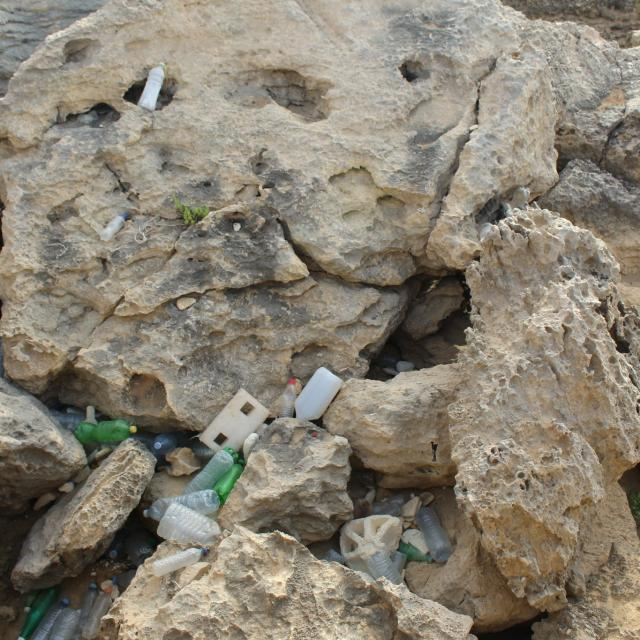Bottle: (156, 502, 222, 545), (294, 366, 344, 421), (109, 530, 156, 586), (414, 503, 455, 564), (142, 490, 220, 520), (183, 450, 234, 494), (20, 588, 57, 640), (213, 445, 245, 504), (151, 547, 209, 579), (81, 588, 113, 640), (364, 552, 408, 589), (77, 419, 138, 445), (139, 62, 166, 113), (31, 599, 65, 639), (47, 607, 79, 640), (77, 585, 98, 627), (102, 213, 131, 243), (51, 407, 85, 432), (399, 538, 431, 563), (131, 431, 159, 458), (278, 379, 296, 418), (155, 434, 178, 455), (372, 502, 403, 516), (321, 549, 347, 565), (188, 443, 212, 460), (385, 493, 414, 507), (392, 548, 407, 574), (378, 354, 397, 368)
Other plastic: (199, 387, 271, 453)
Styrofoam piece: (340, 515, 403, 576), (402, 530, 429, 555), (398, 497, 421, 525), (418, 491, 435, 507), (84, 406, 99, 424), (396, 361, 415, 372), (364, 488, 375, 503), (403, 522, 413, 529)
